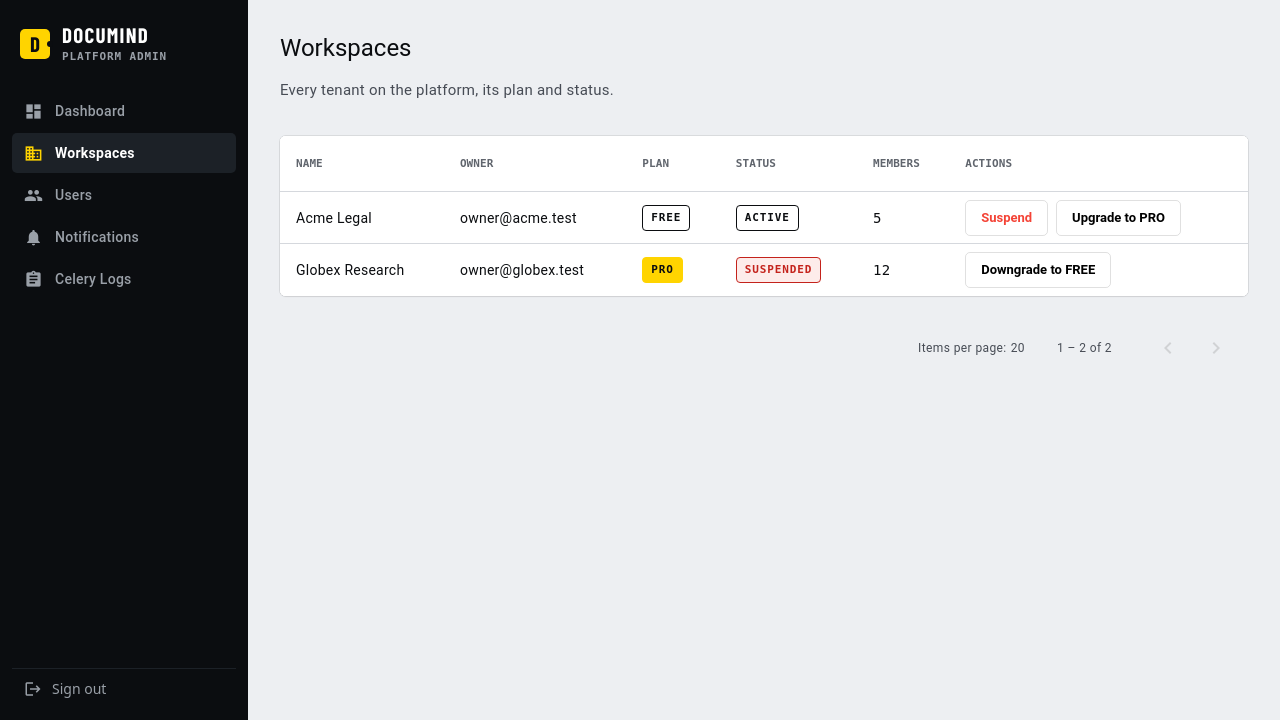
Scenario: Workspaces › upgrades a FREE workspace to PRO
Click the button "Upgrade to PRO" at (1119, 218), box [1056,200,1181,236]
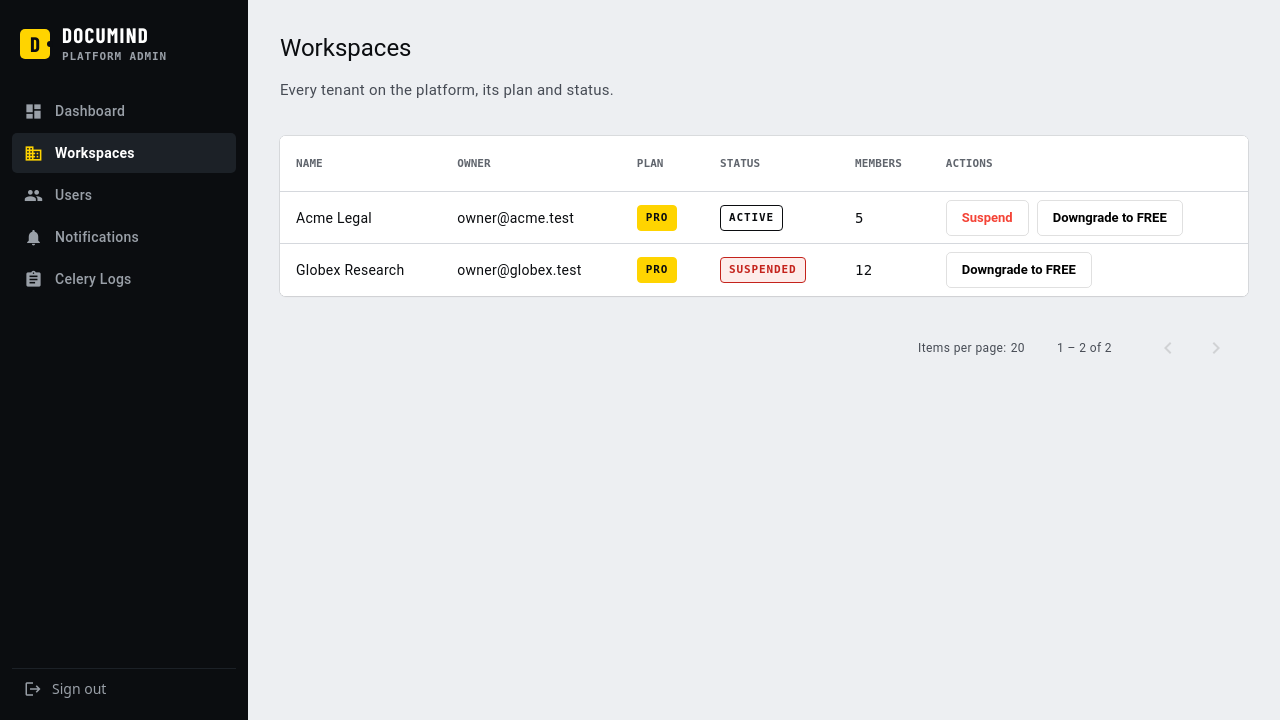
Result: the text "Acme Legal" in the row of "Acme Legal" reads "PRO" at [646,211,669,224]
